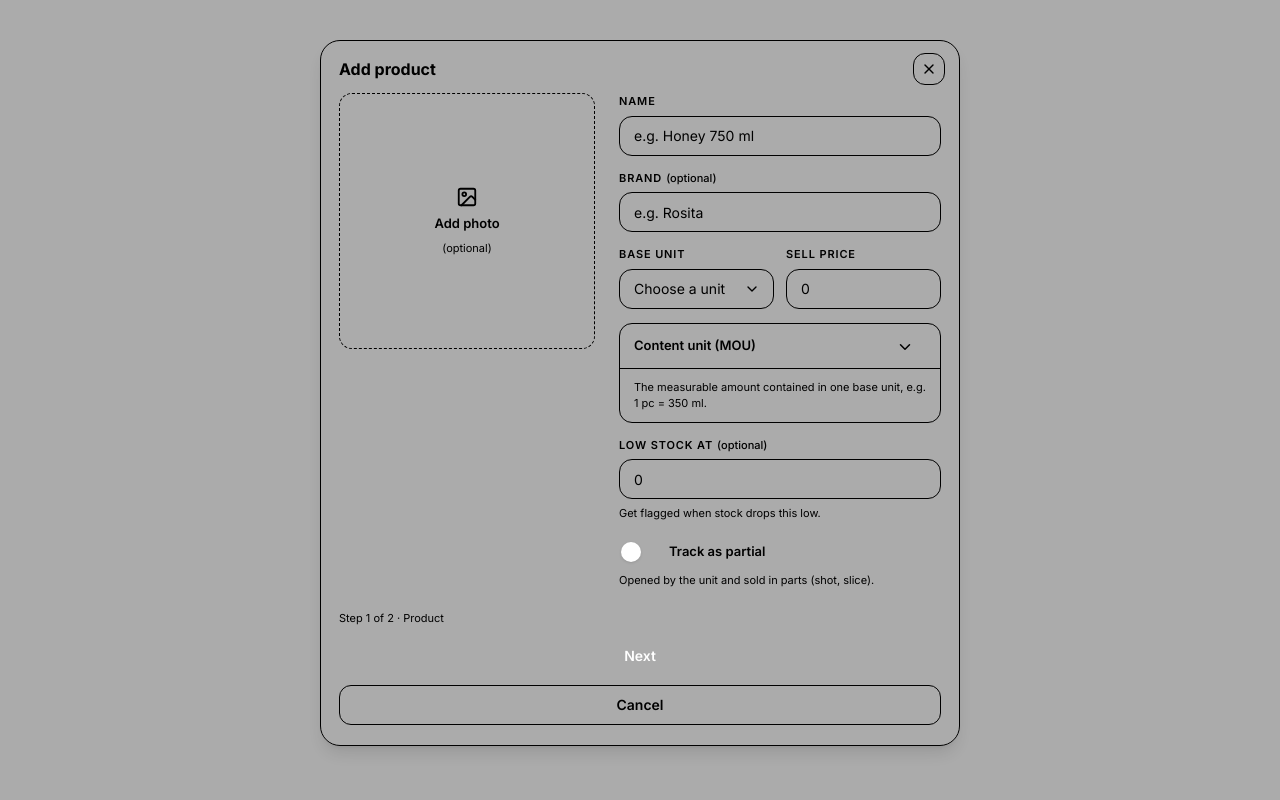
Scenario: AddProductDialog › flags a content unit that shares the base unit dimension
Expected: the text "Content unit (MOU)" is shown, [634,336,756,355]
Type "Honey" into the field labelled "Name" at (780, 136), box [619,116,941,156]
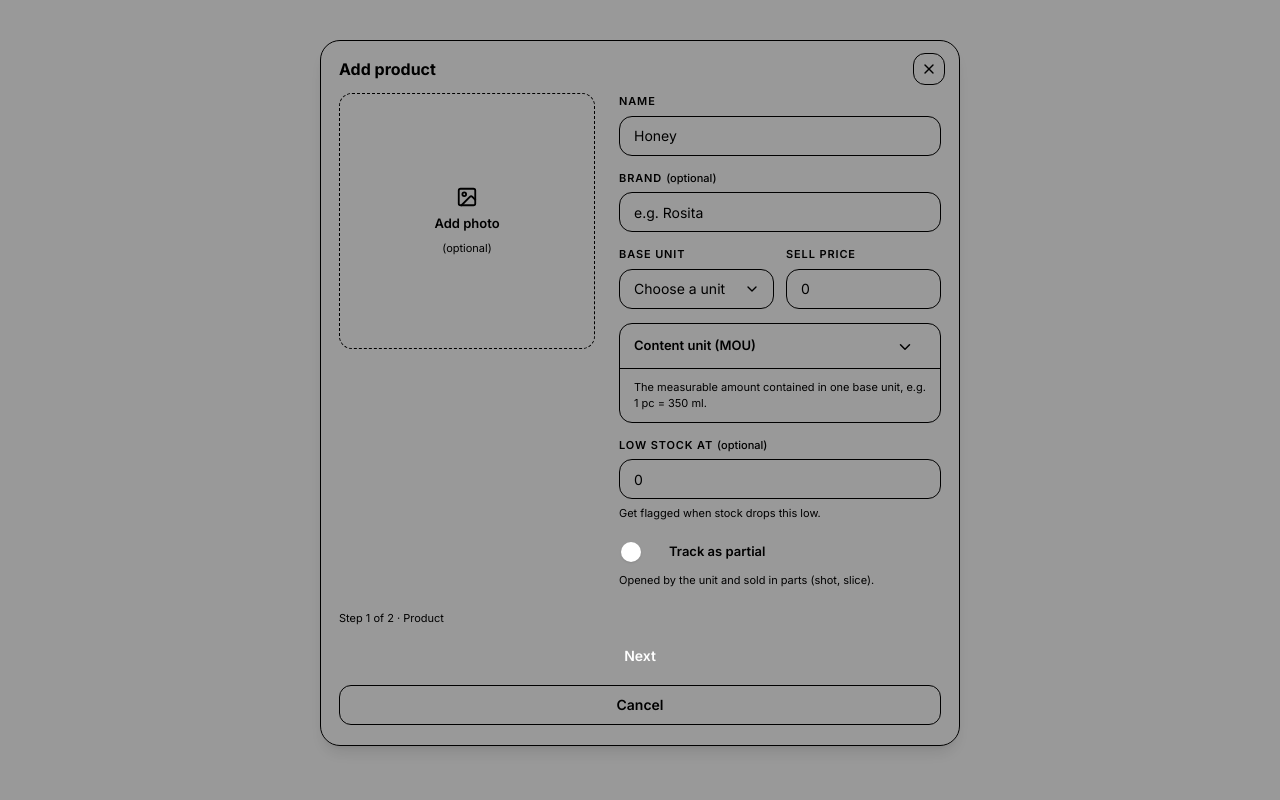
Type "250" into the field labelled "Sell price" at (864, 288), box [786,268,941,308]
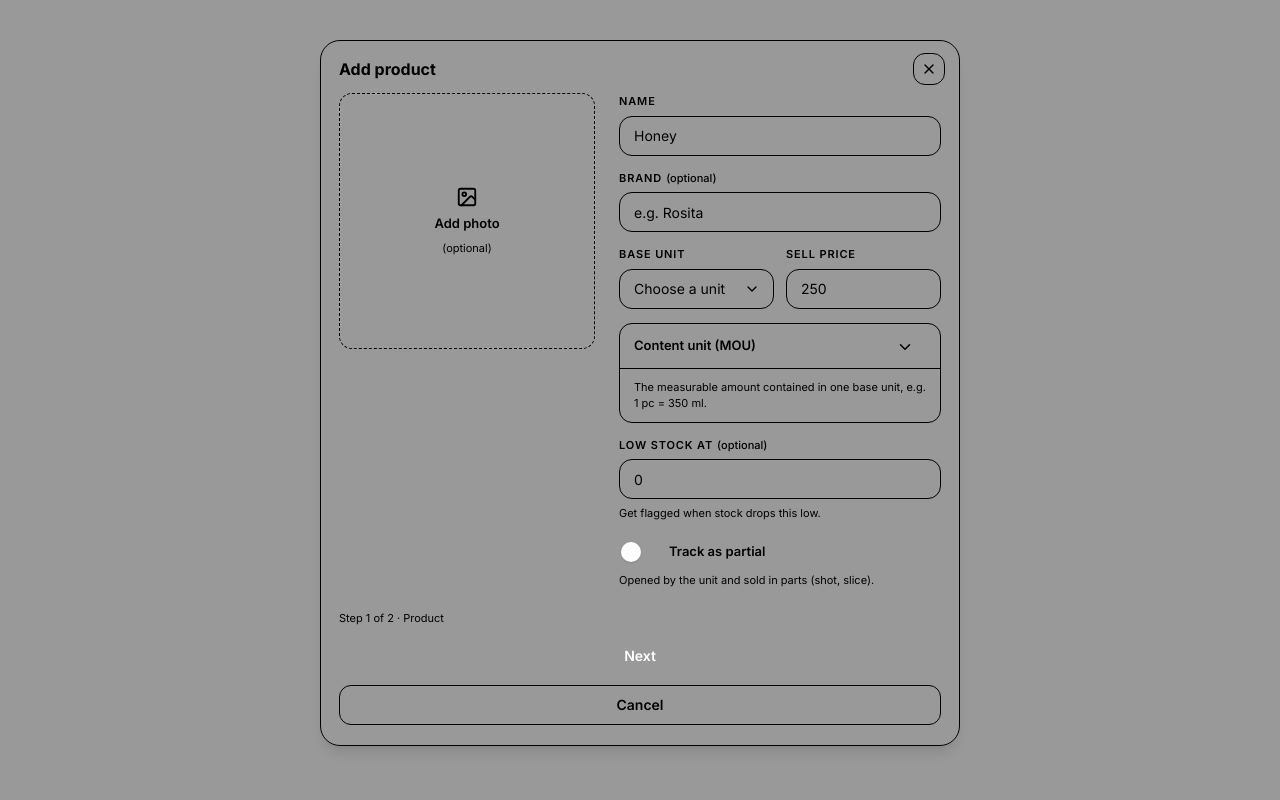
Select "Kilogram (kg)" in the dropdown labelled "Base unit" at (696, 288), box [619,268,774,308]
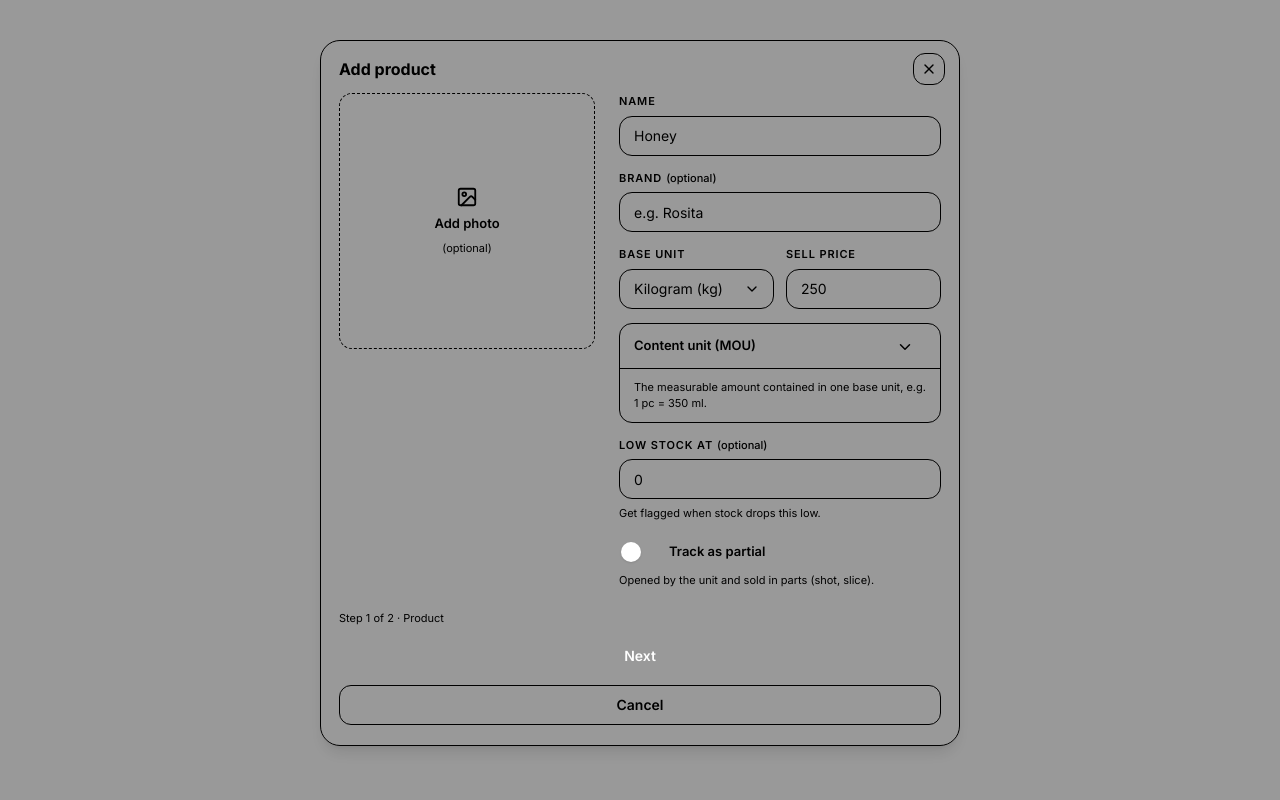
Click the button "Content unit (MOU)" at (695, 344), box [620,324,928,368]
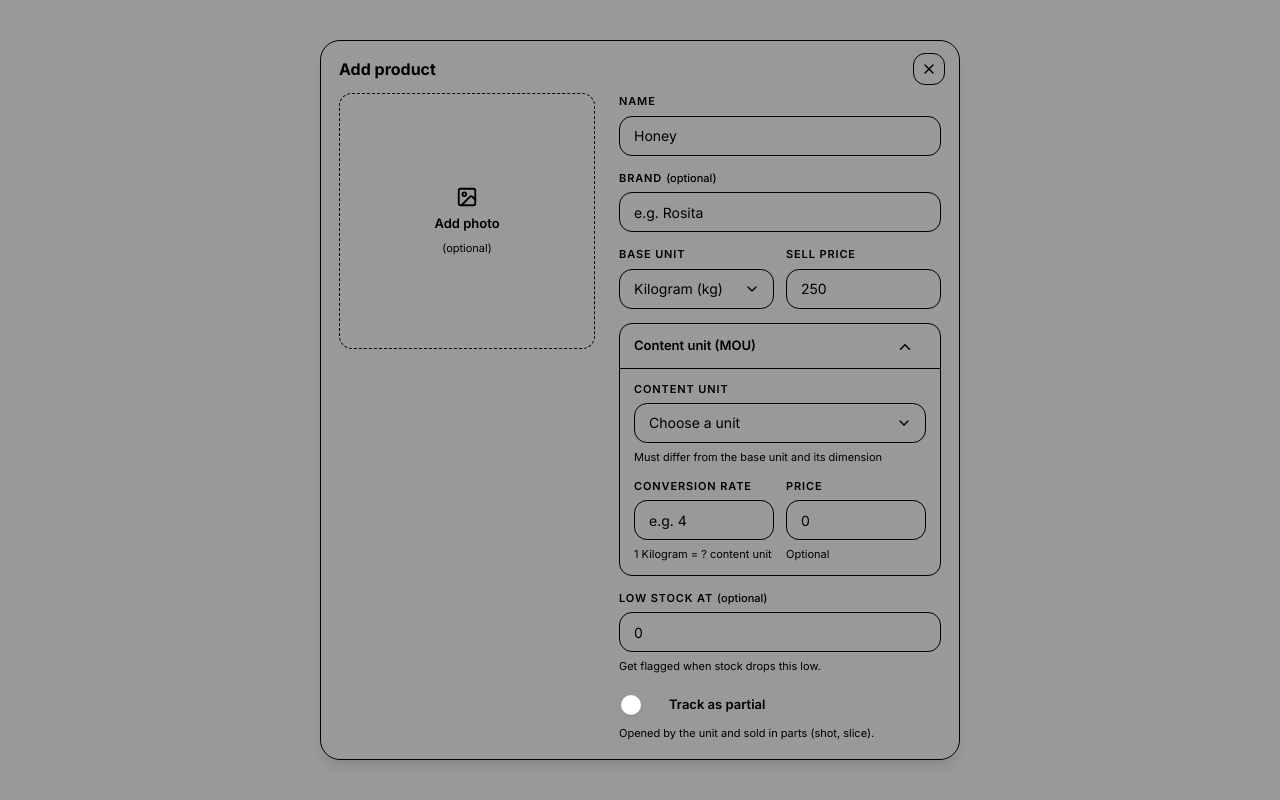
Select "Gram (g)" in the dropdown labelled "Content unit" at (780, 423), box [634,403,926,443]
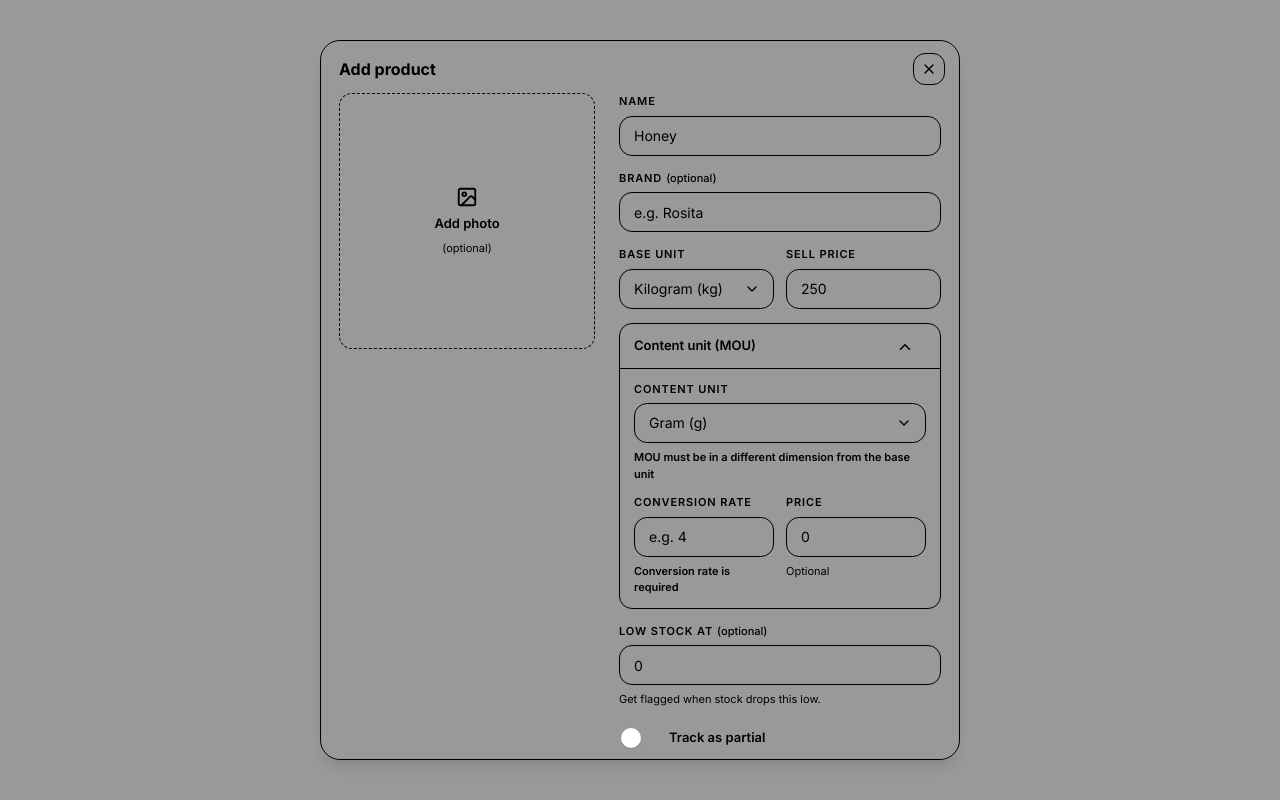
Result: the message "MOU must be in a different dimension from the base unit" is shown at [634,449,926,482]
